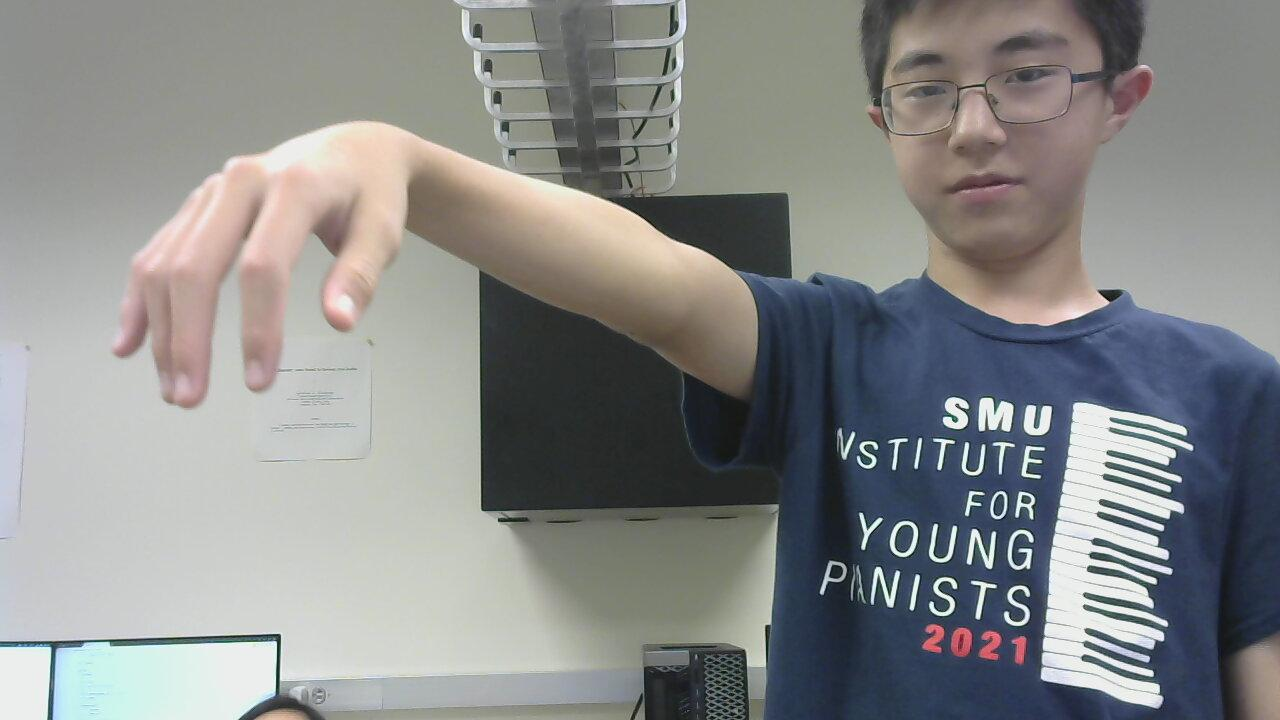hands: (109, 114, 401, 418)
